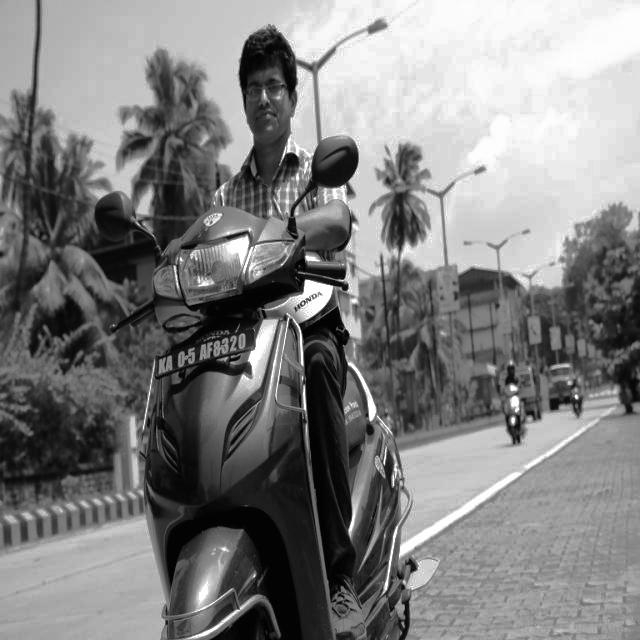Bike: (132, 204, 434, 640), (501, 381, 529, 447), (569, 374, 587, 416)
